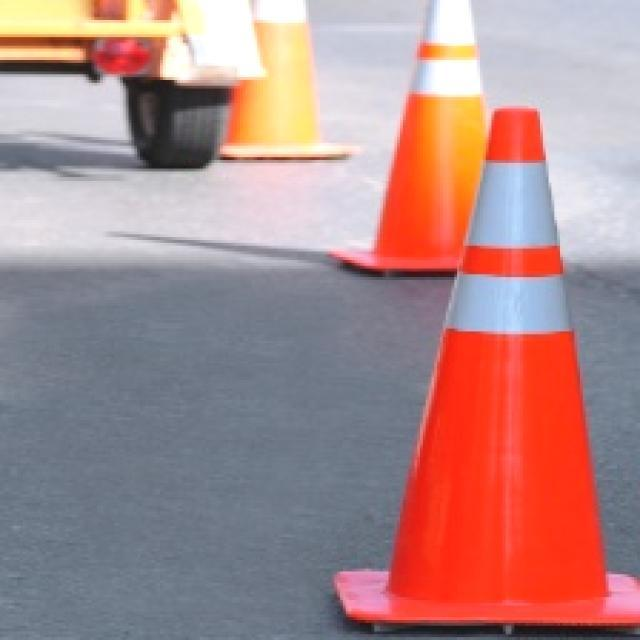traffic cone: (332, 106, 629, 636), (326, 0, 491, 279)
